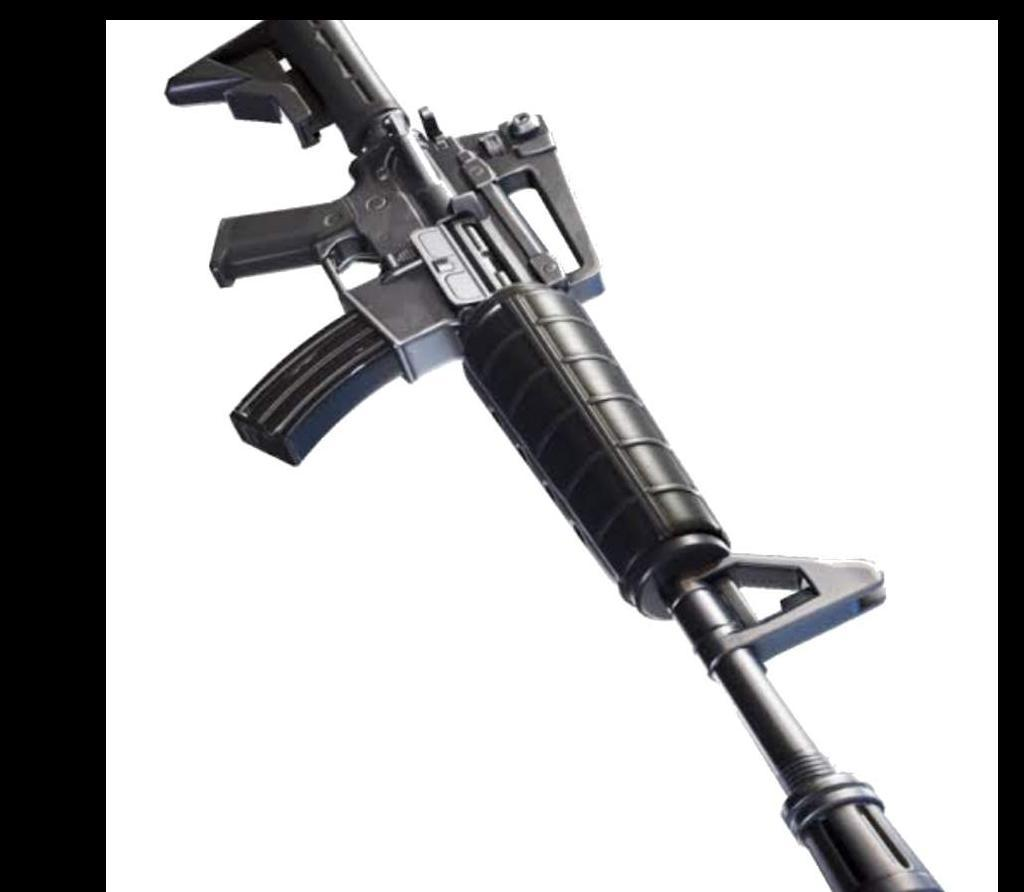larga: (166, 20, 944, 892)
